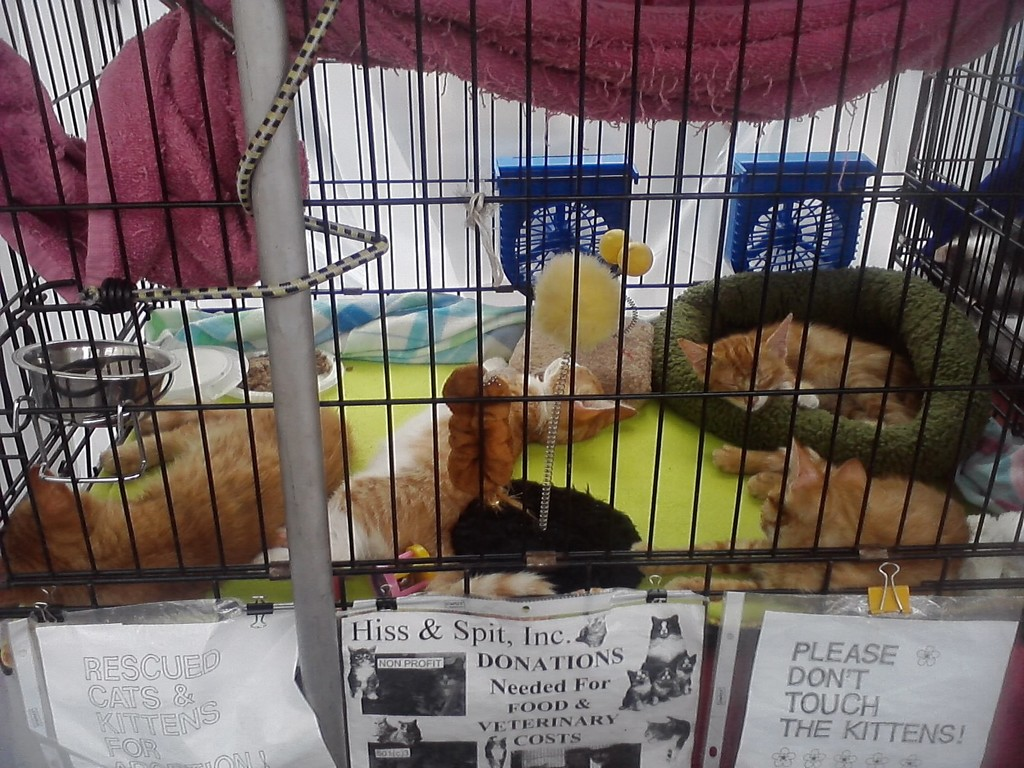Animal: (319, 354, 636, 599), (0, 399, 352, 598), (630, 449, 967, 593), (673, 308, 917, 416)
